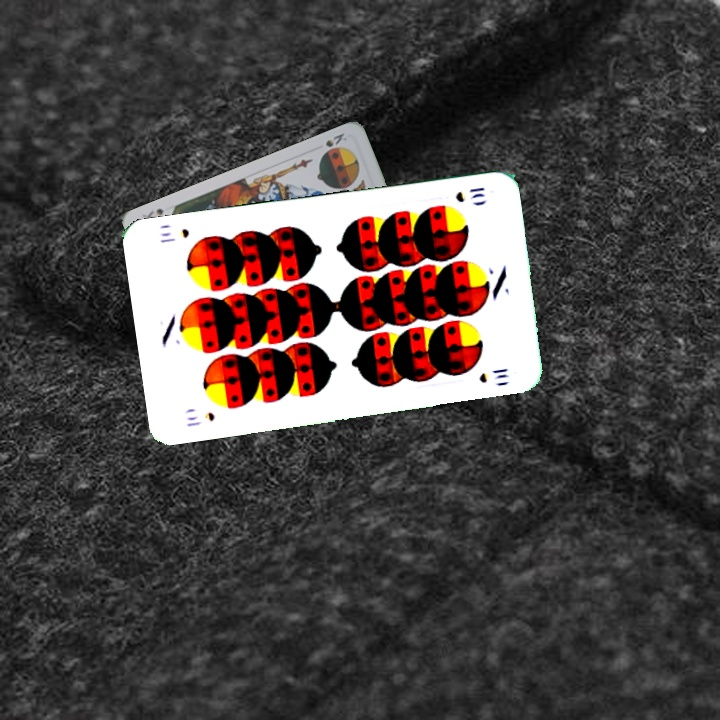S10: (451, 183, 488, 205), (182, 408, 217, 429)
SK: (321, 129, 349, 150)
